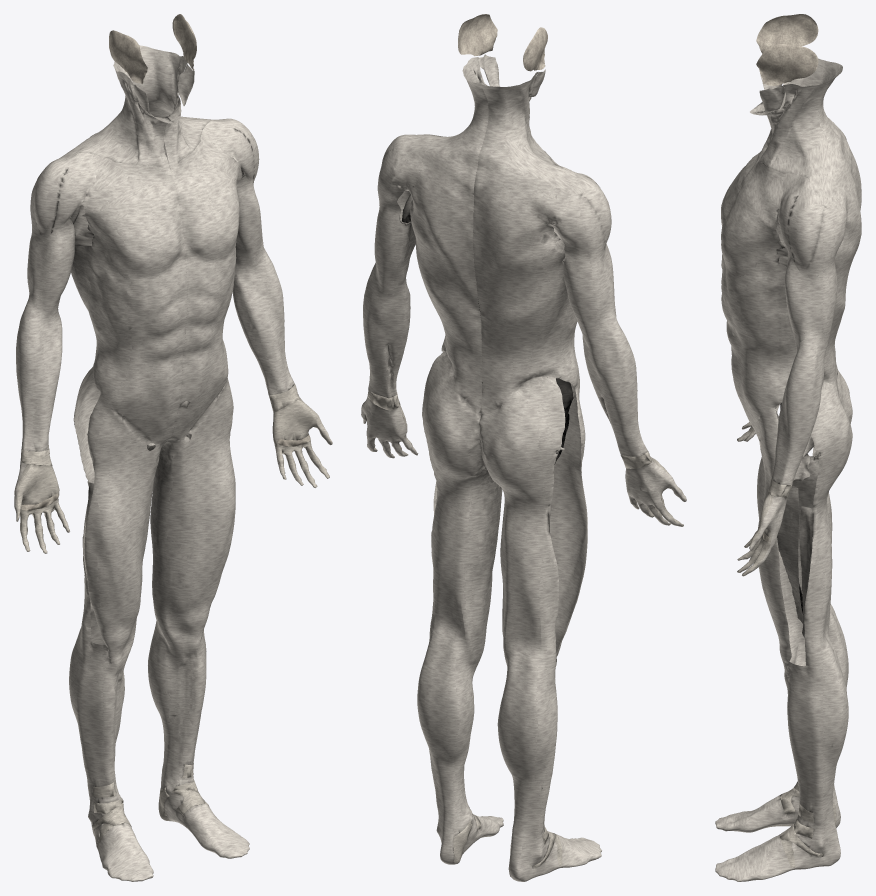
Rendered from fascia.opt.glb.
3 renders of one model, left to right at view 1: azimuth 30°, elevation 25°; view 2: azimuth 150°, elevation 25°; view 3: azimuth 270°, elevation 25°, orthographic. The views are drawn at different scales.
Parts seen in each view (by area): view 1: investing-abdominal-fascia-r, fascia-lata-l, fascia-lata-r, crural-fascia-l, crural-fascia-r, pectoral-fascia-r, investing-abdominal-fascia-l, pectoral-fascia-l, antebrachial-fascia-r, antebrachial-fascia-l, superficial-investing-cervical-fascia-r, deltoid-fascia-r (+8 smaller); view 2: fascia-lata-r, investing-abdominal-fascia-r, fascia-lata-l, crural-fascia-r, investing-abdominal-fascia-l, crural-fascia-l, superficial-investing-cervical-fascia-r, antebrachial-fascia-r, superficial-investing-cervical-fascia-l, antebrachial-fascia-l, deltoid-fascia-r, brachial-fascia-r (+8 smaller); view 3: crural-fascia-l, investing-abdominal-fascia-l, fascia-lata-l, superficial-investing-cervical-fascia-l, deltoid-fascia-l, pectoral-fascia-l, antebrachial-fascia-l, brachial-fascia-l, crural-fascia-r, superficial-layer-of-temporal-fascia-l, medial-femoral-intermuscular-septum-l, superficial-layer-of-temporal-fascia-r (+10 smaller).
Boxes of the visible parts, x1,y1,x2,y2 form: investing-abdominal-fascia-r: (71,223,187,444); fascia-lata-l: (148,378,235,627); fascia-lata-r: (73,366,167,648); crural-fascia-l: (148,611,249,858); crural-fascia-r: (69,621,153,881); pectoral-fascia-r: (79,162,184,279); investing-abdominal-fascia-l: (148,142,236,439); pectoral-fascia-l: (169,141,240,259); antebrachial-fascia-r: (16,300,62,451); antebrachial-fascia-l: (232,247,294,394); superficial-investing-cervical-fascia-r: (57,61,174,167); deltoid-fascia-r: (30,152,114,241); fascia-lata-r: (479,377,587,667); investing-abdominal-fascia-r: (473,193,579,414); fascia-lata-l: (422,351,502,647); crural-fascia-r: (497,656,601,881); investing-abdominal-fascia-l: (405,163,482,413); crural-fascia-l: (417,639,503,864); superficial-investing-cervical-fascia-r: (474,72,576,203); antebrachial-fascia-r: (581,317,647,456); superficial-investing-cervical-fascia-l: (403,57,488,194); antebrachial-fascia-l: (363,263,410,398); deltoid-fascia-r: (527,159,611,260); brachial-fascia-r: (561,238,616,335); crural-fascia-l: (715,638,848,881); investing-abdominal-fascia-l: (721,184,861,439); fascia-lata-l: (757,380,852,666); superficial-investing-cervical-fascia-l: (750,68,855,195); deltoid-fascia-l: (778,173,850,279); pectoral-fascia-l: (721,161,783,276); antebrachial-fascia-l: (771,339,827,484); brachial-fascia-l: (784,251,837,348); crural-fascia-r: (715,609,848,832); superficial-layer-of-temporal-fascia-l: (756,44,818,85); medial-femoral-intermuscular-septum-l: (777,485,803,623); superficial-layer-of-temporal-fascia-r: (756,14,818,53).
Size of the model in its own units: 0.6707 by 1.66 by 0.2685.
3 materials, 3 textured.
